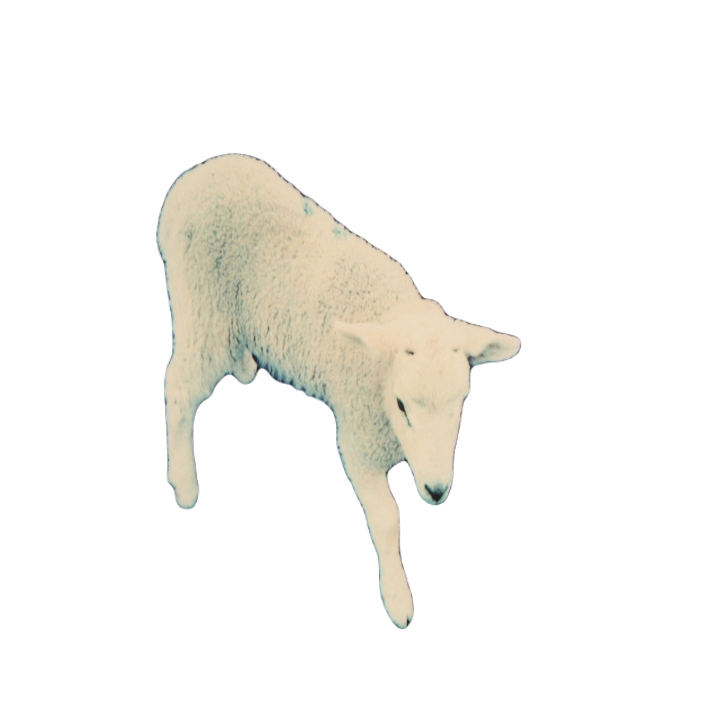Sheep: (146, 145, 528, 635)
